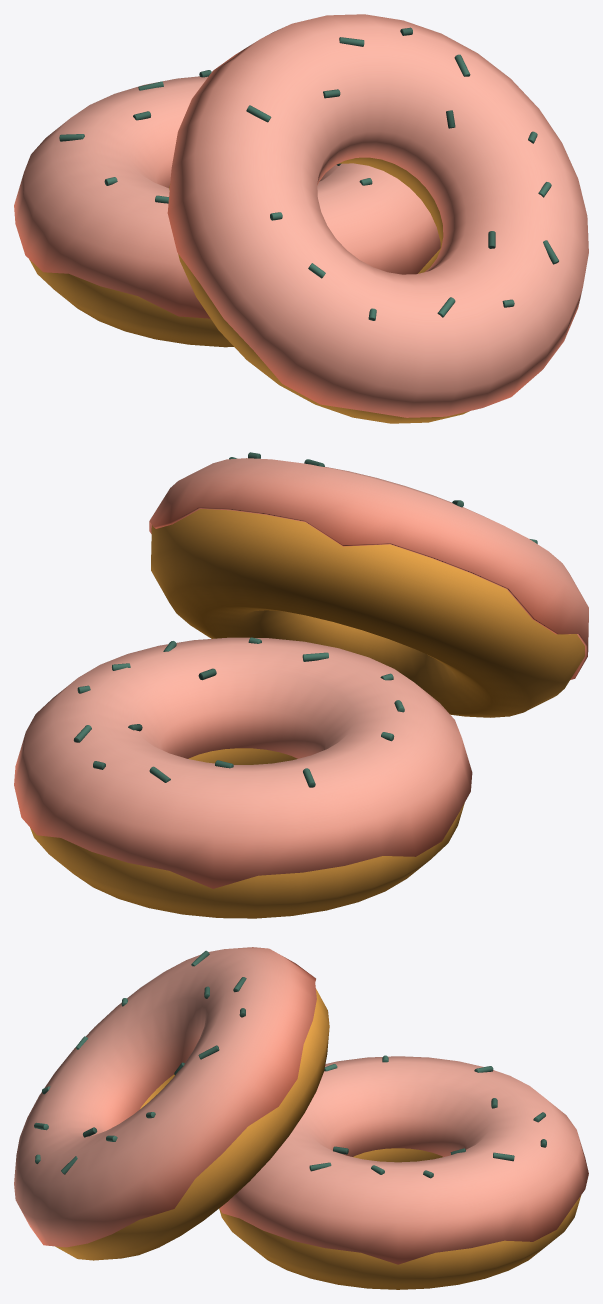
Rendered from Half_Donut.fbx.
3 renders of one model, top to bottom at view 1: azimuth 30°, elevation 25°; view 2: azimuth 150°, elevation 25°; view 3: azimuth 270°, elevation 25°, orthographic. The views are drawn at different scales.
Visible parts, largest first — view 1: Half_Donut; view 2: Half_Donut; view 3: Half_Donut.
Boxes of the visible parts, x1,y1,x2,y2 form: Half_Donut: (14, 14, 588, 423); Half_Donut: (14, 452, 588, 918); Half_Donut: (14, 947, 588, 1289).
Bounding box in the file's own units: 20.46 × 15.22 × 30.17.
